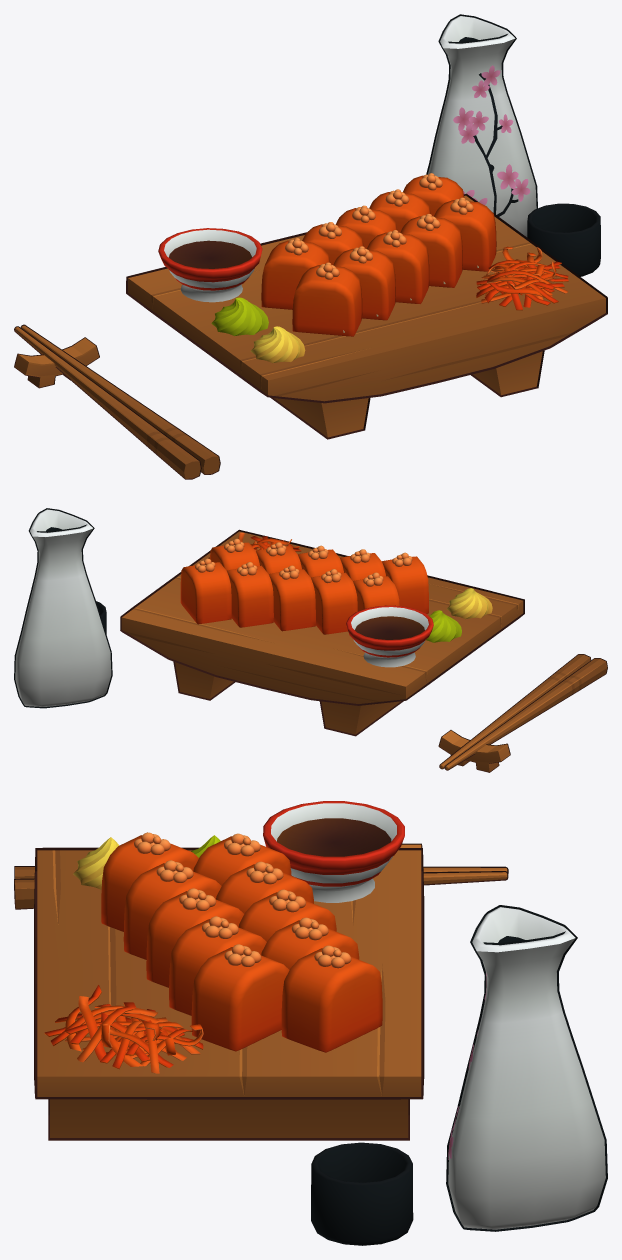
File: sushiQ_1.fbx
3 views of the same model, one above another, from view 1: azimuth 30°, elevation 25°; view 2: azimuth 150°, elevation 25°; view 3: azimuth 270°, elevation 25° (orthographic). The views are drawn at different scales.
Visible parts, largest first — view 1: Sushi_free; view 2: Sushi_free; view 3: Sushi_free.
Part boxes in pixels (x1,y1,x2,y2): Sushi_free: (14, 14, 607, 479); Sushi_free: (14, 508, 607, 772); Sushi_free: (14, 801, 607, 1245).
Size of the model in its own units: 2440 by 863 by 1633.
